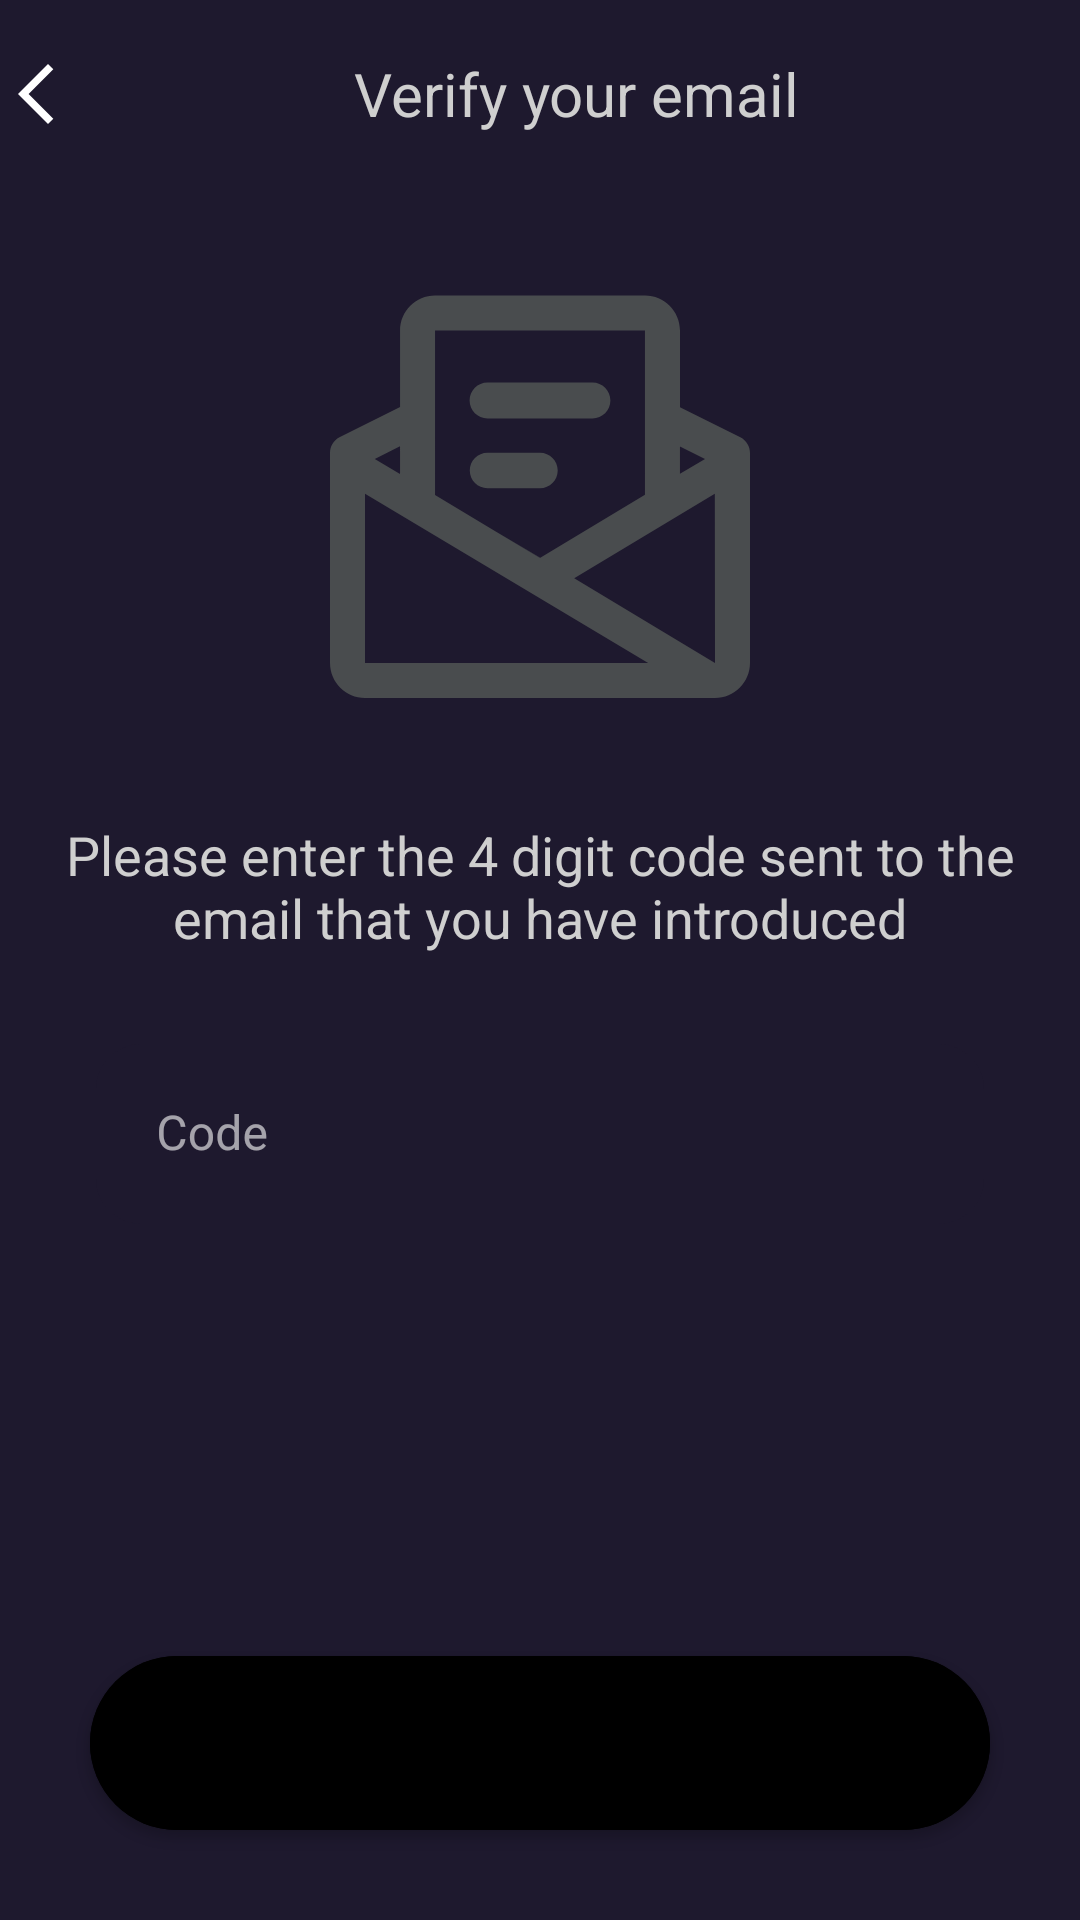

Icon click points for this 1080*1920 phone screenshot, format (x=x, y=y):
arrow back: (x=35, y=94)
